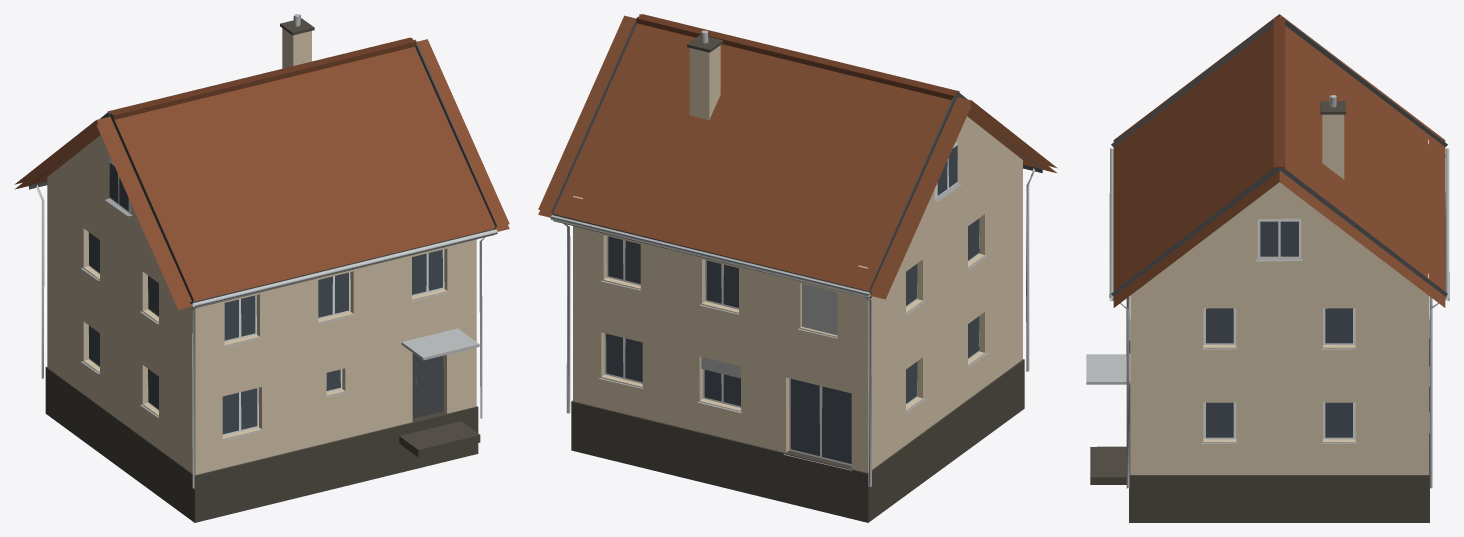
File: house-modern-red-lod1.glb
3 views of the same model, side by side, from view 1: azimuth 30°, elevation 25°; view 2: azimuth 150°, elevation 25°; view 3: azimuth 270°, elevation 25° (orthographic). The views are drawn at different scales.
Visible parts, largest first — view 1: house-modern-red-plaster0.001; view 2: house-modern-red-plaster0.001; view 3: house-modern-red-plaster0.001.
Boxes of the visible parts, left/top/right/bottom form: house-modern-red-plaster0.001: left=14, top=14, right=509, bottom=522; house-modern-red-plaster0.001: left=538, top=14, right=1057, bottom=522; house-modern-red-plaster0.001: left=1086, top=14, right=1449, bottom=522.
Bounding box in the file's own units: 10.6 × 11.73 × 9.97.
